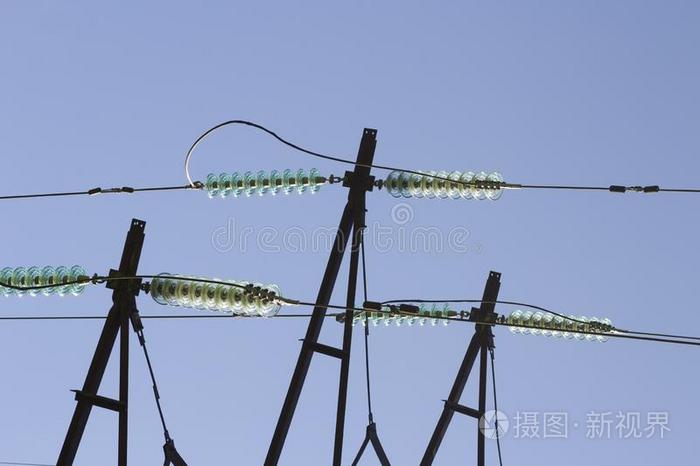insulator: (148, 270, 279, 319), (385, 168, 501, 202), (506, 309, 610, 344), (203, 167, 321, 196), (1, 263, 87, 295)
